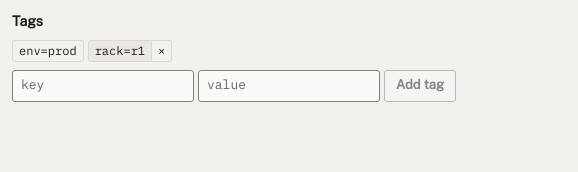
node tags › holds a key to the server's rule: 32 characters, starting with a letter or digit
Type ".hidden" into the field named "Tag key" at (103, 86), box [12, 70, 194, 102]
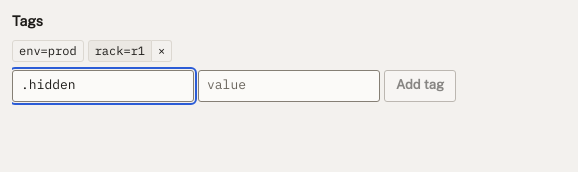
Type "x" into the field named "Tag value" at (289, 86), box [198, 70, 380, 102]
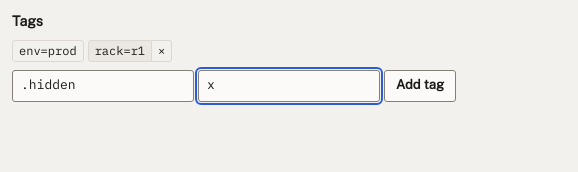
Click the button "Add tag" at (420, 86), box [384, 70, 456, 102]
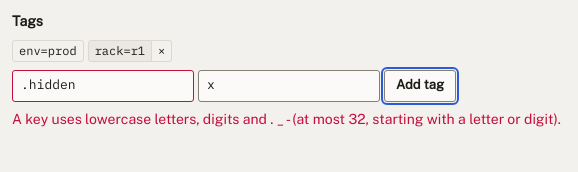
Expected: the text "at most 32" is shown, [12, 111, 561, 127]
